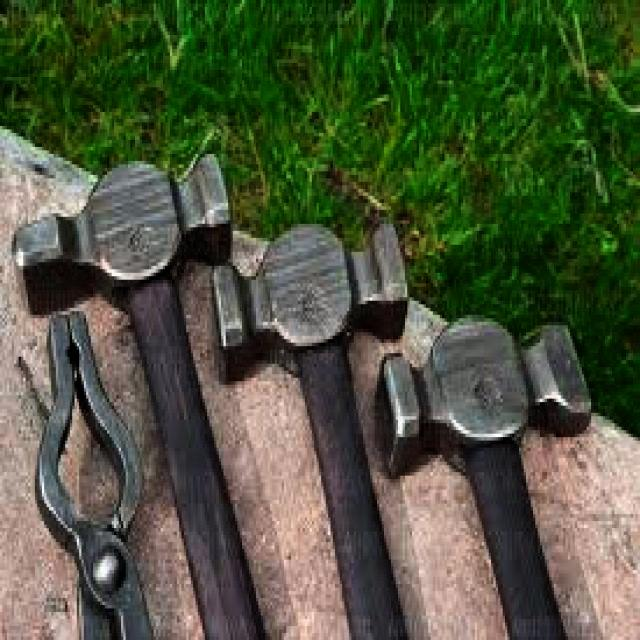hammer: (8, 147, 269, 640), (202, 203, 433, 640), (373, 294, 600, 640)
